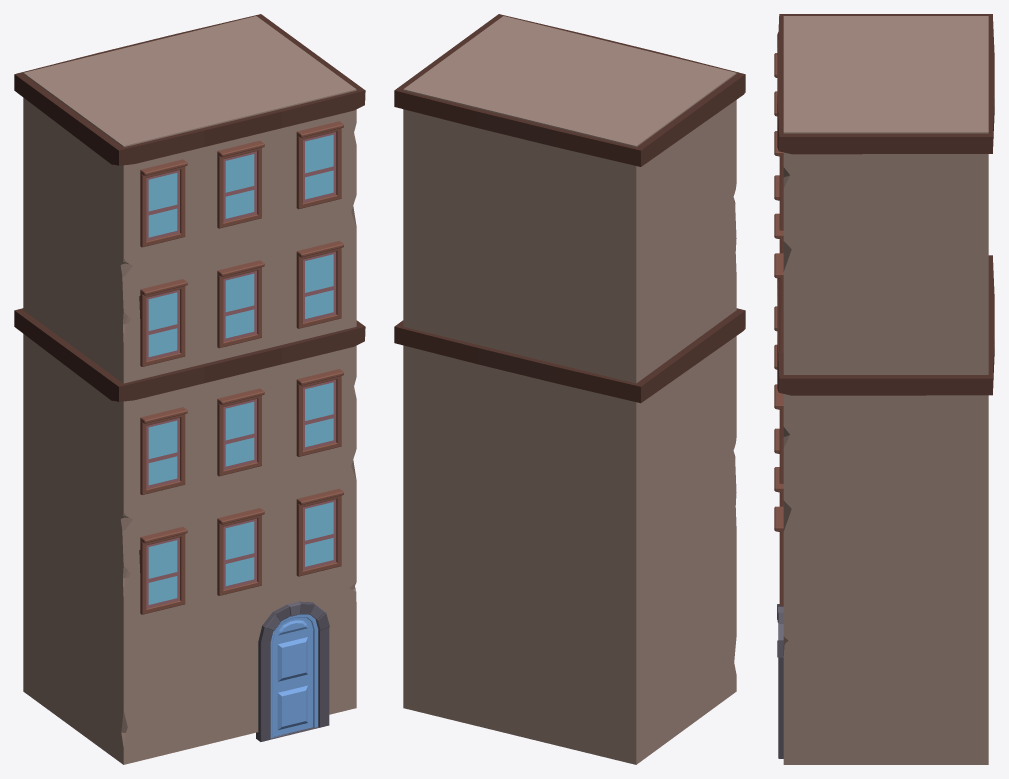
Rendered from House 1.fbx.
The picture shows the model from 3 angles, left to right: view 1: azimuth 30°, elevation 25°; view 2: azimuth 150°, elevation 25°; view 3: azimuth 270°, elevation 25°; orthographic projection. The views are drawn at different scales.
Visible parts, largest first — view 1: House 1; view 2: House 1; view 3: House 1.
Part boxes in pixels (left/top/right/bottom): House 1: left=14, top=14, right=365, bottom=764; House 1: left=394, top=14, right=745, bottom=764; House 1: left=774, top=14, right=994, bottom=764.
Bounding box in the file's own units: 591 × 1403 × 437.
